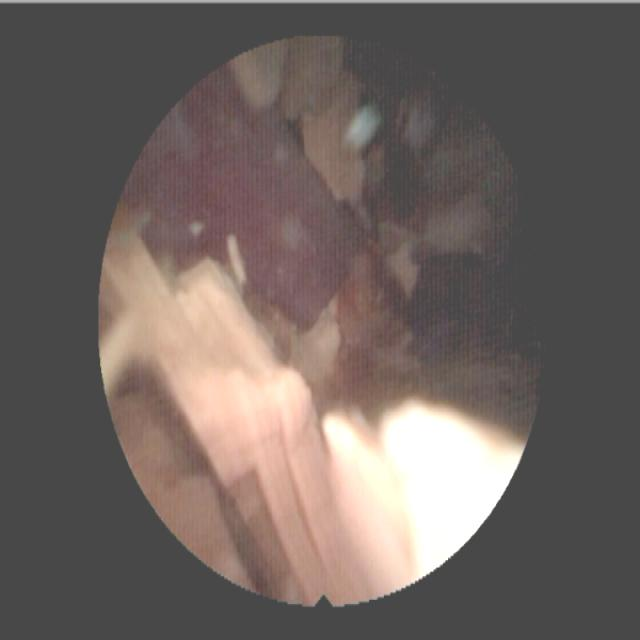stone: (102, 210, 519, 603), (235, 40, 491, 295)
